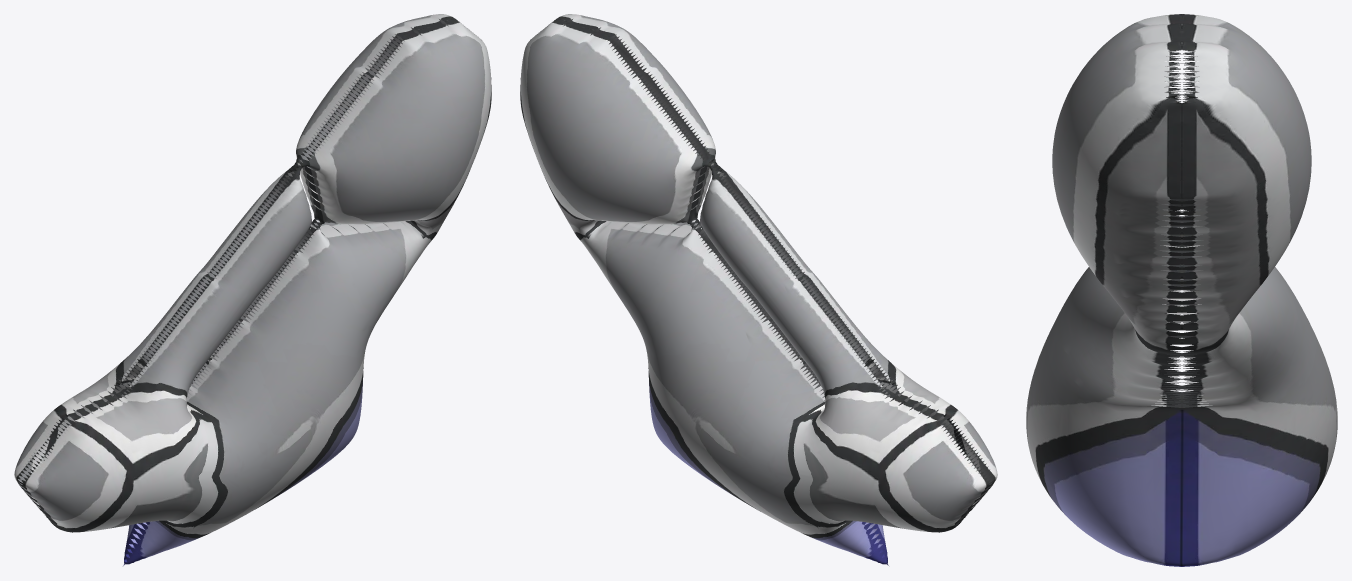
The model's file is side_buttress.glb.
3 renders of one model, left to right at view 1: azimuth 30°, elevation 25°; view 2: azimuth 150°, elevation 25°; view 3: azimuth 270°, elevation 25°, orthographic. The views are drawn at different scales.
Visible parts, largest first — view 1: side_buttress; view 2: side_buttress; view 3: side_buttress.
Boxes of the visible parts, bbox=[...] form: side_buttress: bbox=[14, 14, 491, 565]; side_buttress: bbox=[520, 14, 997, 565]; side_buttress: bbox=[1026, 14, 1337, 566].
Size of the model in its own units: 0.9883 by 0.962 by 0.3677.
1 material, 1 textured.
